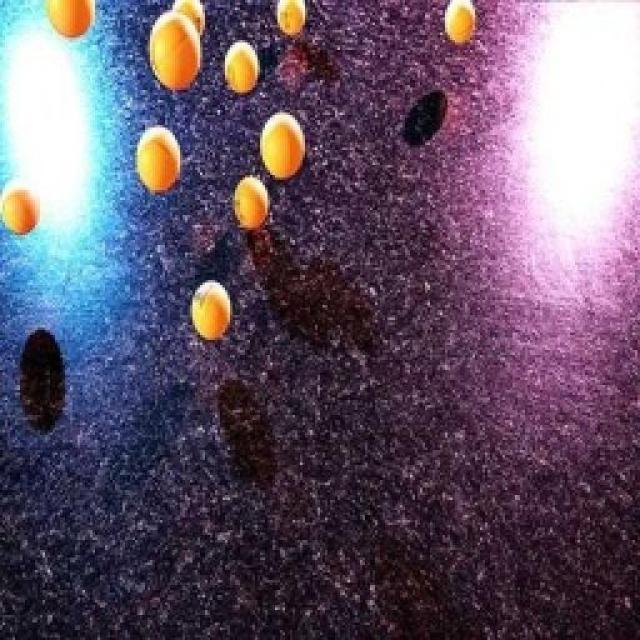oball: (147, 11, 200, 90), (260, 111, 304, 180), (138, 126, 178, 194), (190, 279, 231, 343), (0, 185, 40, 241), (45, 1, 94, 38), (234, 176, 268, 229), (225, 41, 259, 92), (442, 0, 476, 45), (276, 0, 306, 34), (174, 0, 202, 29)
